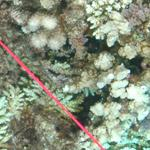alive: (3, 1, 147, 146)
